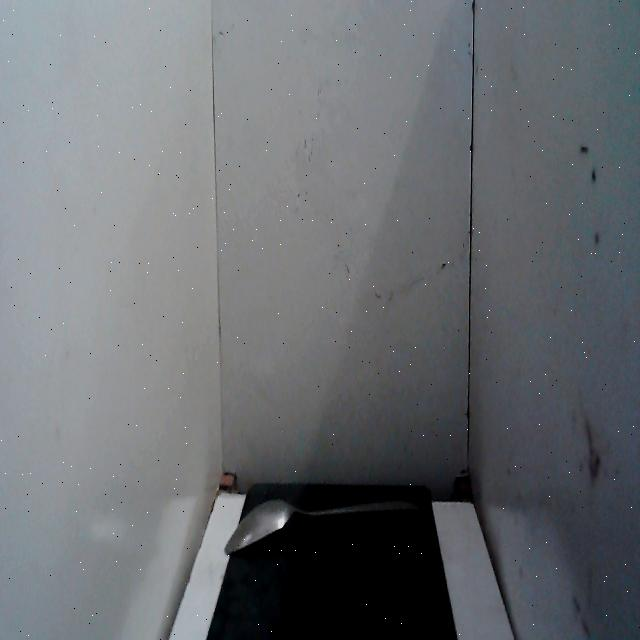metal: (221, 474, 427, 570)
